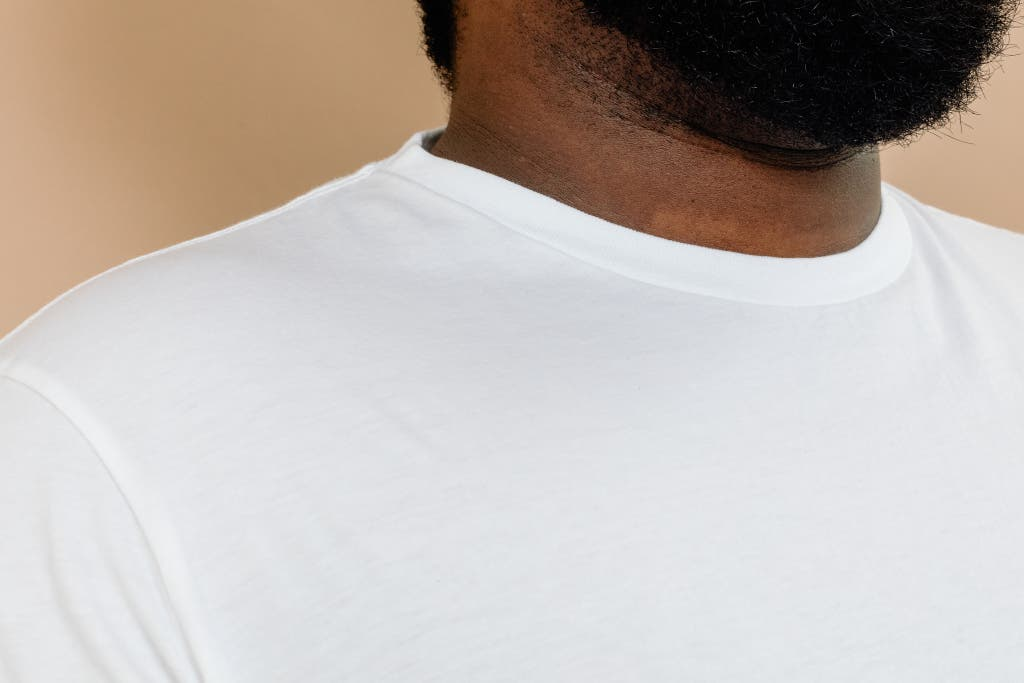round-necked tshirt: (7, 142, 1024, 683)
